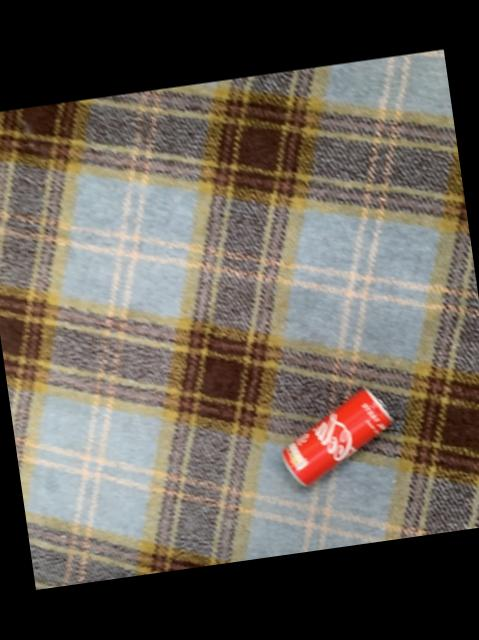metal: (284, 391, 393, 487)
